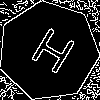H: (23, 26, 78, 84)
